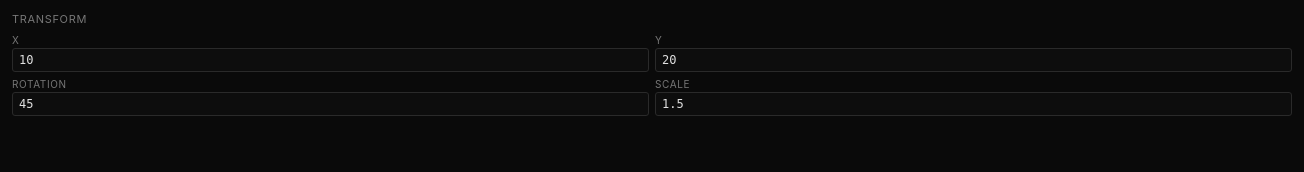
Test: TransformInputs › reverts on Escape
Replace the text in the number field with test id "transform-x" with "999" at (330, 60), box [12,48,649,72]
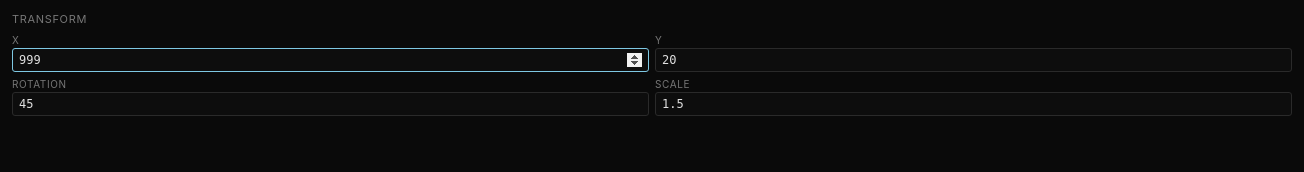
Press Escape
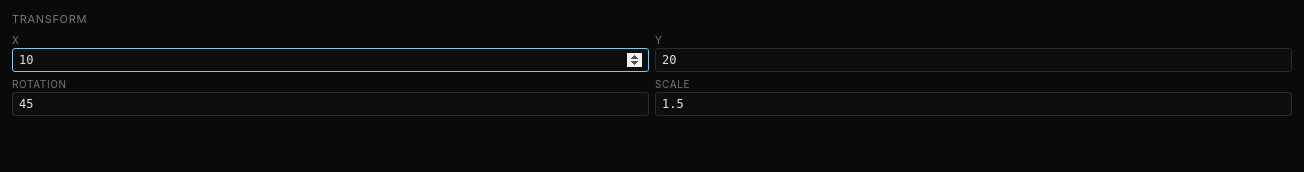
Expected: the number field with test id "transform-x" holds "10", [12,48,649,72]
